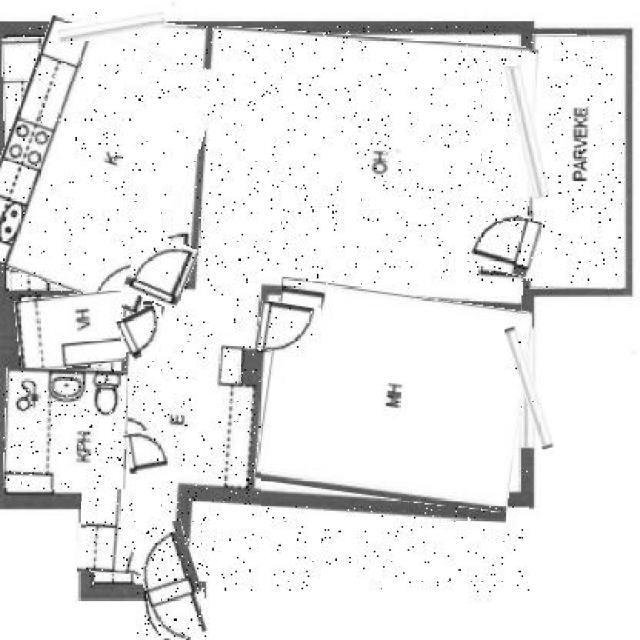door: (136, 523, 207, 640), (128, 234, 194, 306), (472, 212, 543, 277), (257, 303, 318, 354), (118, 308, 171, 357), (125, 429, 169, 474)
window: (511, 64, 543, 198), (514, 326, 544, 449), (57, 12, 166, 38)
zone: (86, 28, 529, 594), (260, 288, 526, 506), (0, 26, 205, 302), (4, 35, 188, 291), (530, 36, 624, 290), (3, 369, 128, 489), (15, 294, 124, 368)
